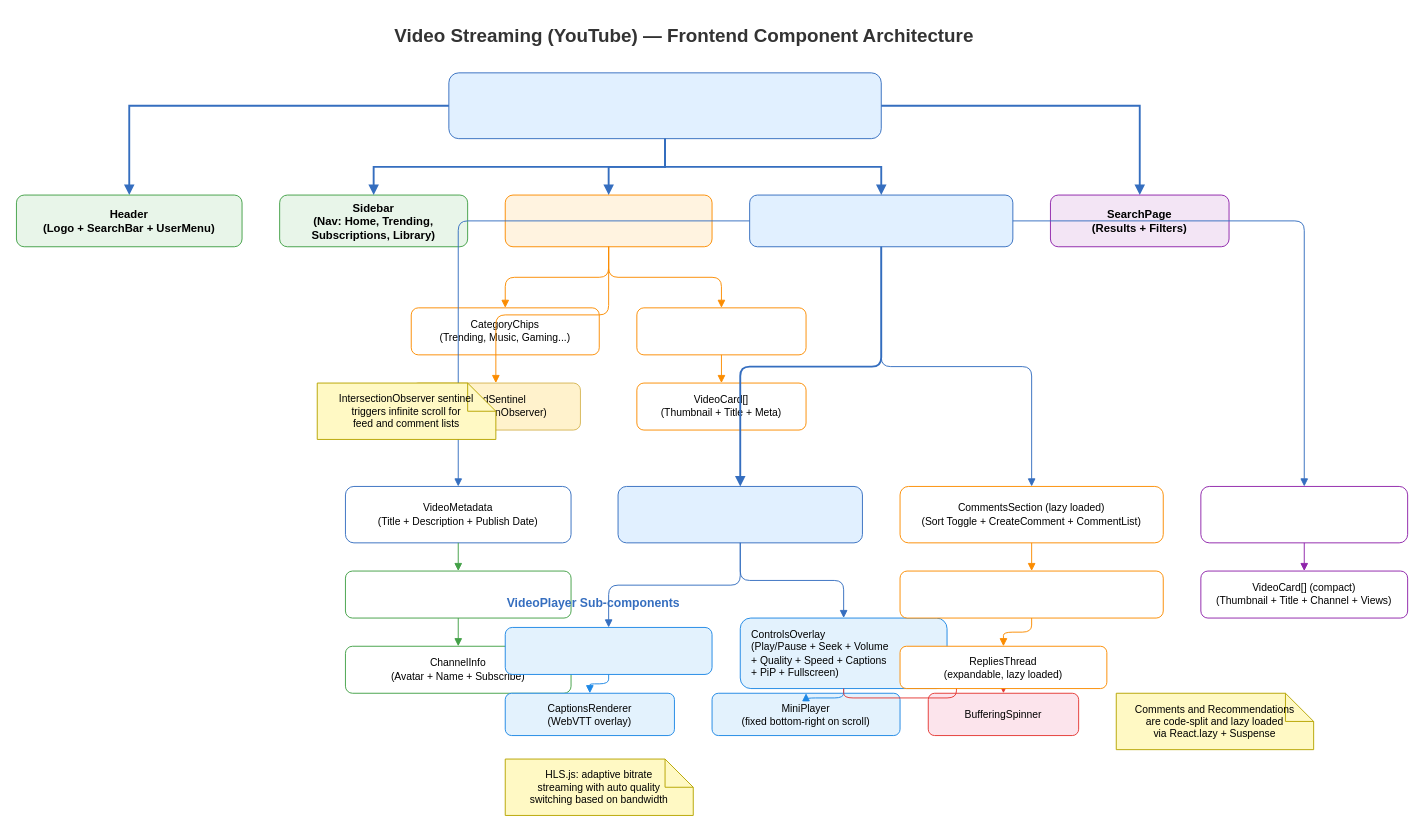
This 1424x832 diagram has some shape labels left out. Here are the shapes that lost their labels. From the top down, the centre of each, then its label:
At (x=664, y=105): "App Shell — SPA with SSR, client-side routing, code-split per route".
At (x=608, y=220): "HomeFeedPage (Video grid + infinite scroll)".
At (x=881, y=220): "VideoWatchPage (Player + Metadata + Comments + Recs)".
At (x=721, y=331): "VideoGrid (CSS Grid, responsive)".
At (x=739, y=514): "VideoPlayer (HLS/DASH adaptive streaming)".
At (x=1304, y=514): "RecommendedVideos (Sidebar / Below player)".
At (x=458, y=594): "EngagementBar (Like + Dislike + Share + Save)".
At (x=1031, y=594): "CommentItem[] (Avatar + Body + Actions + Replies)".
At (x=608, y=650): "VideoElement (HTML5 video + HLS.js/DASH.js)".
